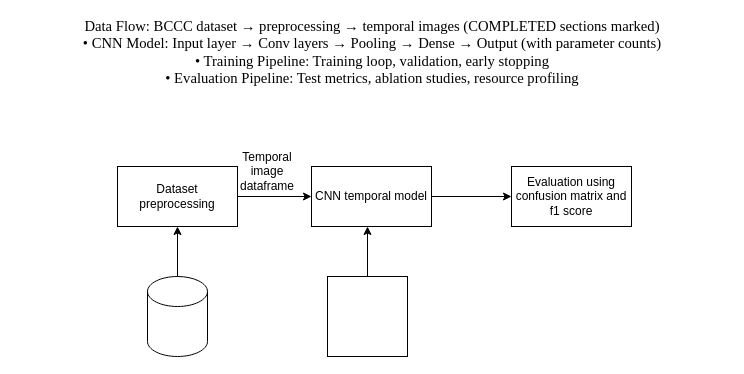
The diagram is 744 pixels wide and 374 high, and some of its shapes have lost their labels. The shapes that lost their labels are listed below. From the top down, each one's centre as x and y in pixels, then its label:
(x=177, y=316): BCCC dataset
(x=367, y=316): Training Pipeline
